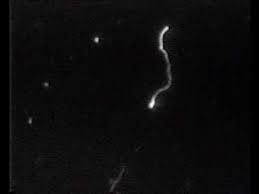sphyillis: (147, 26, 172, 109)
